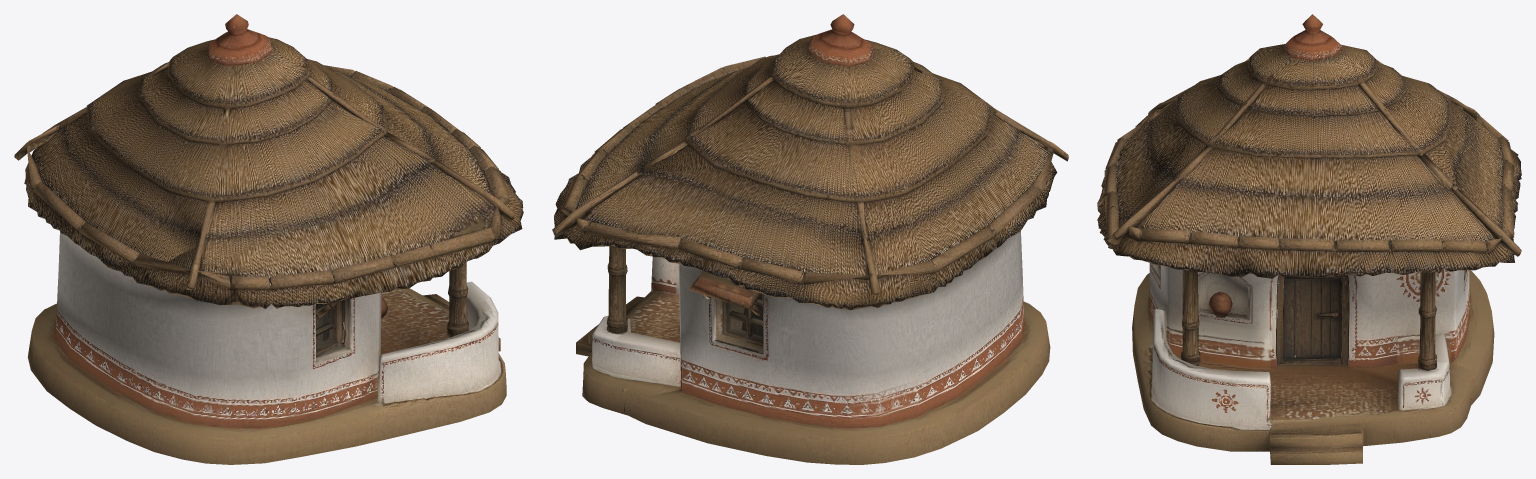
The model's file is tripo_convert_addd342d-bd06-494e-8255-168182feacc3.fbx.
3 views of the same model, side by side, from view 1: azimuth 30°, elevation 25°; view 2: azimuth 150°, elevation 25°; view 3: azimuth 270°, elevation 25° (orthographic). The views are drawn at different scales.
Parts seen in each view (by area): view 1: tripo_node_addd342d; view 2: tripo_node_addd342d; view 3: tripo_node_addd342d.
Boxes of the visible parts, box(x1,y1,x2,y2) form: tripo_node_addd342d: box(14, 14, 523, 464); tripo_node_addd342d: box(552, 14, 1068, 464); tripo_node_addd342d: box(1097, 14, 1521, 464).
Bounding box in the file's own units: 0.998 × 0.8926 × 0.998.
